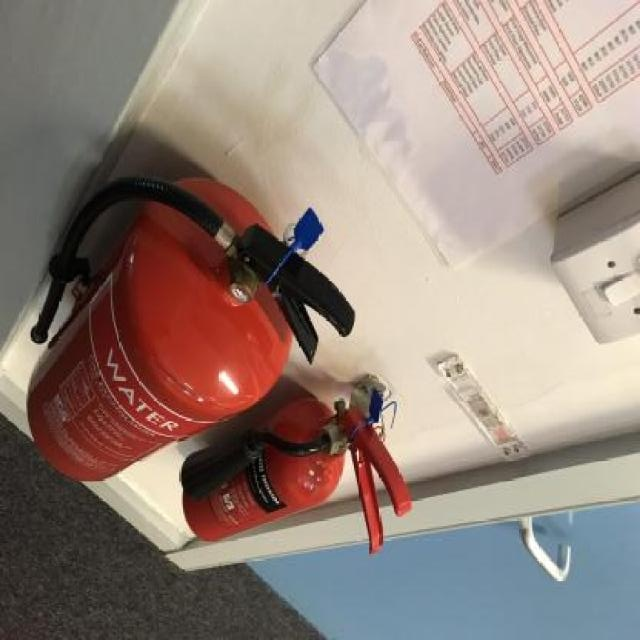fire extinguisher: (27, 174, 355, 481), (180, 398, 412, 556)
